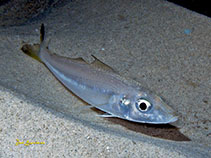kiss: (20, 21, 181, 130)
